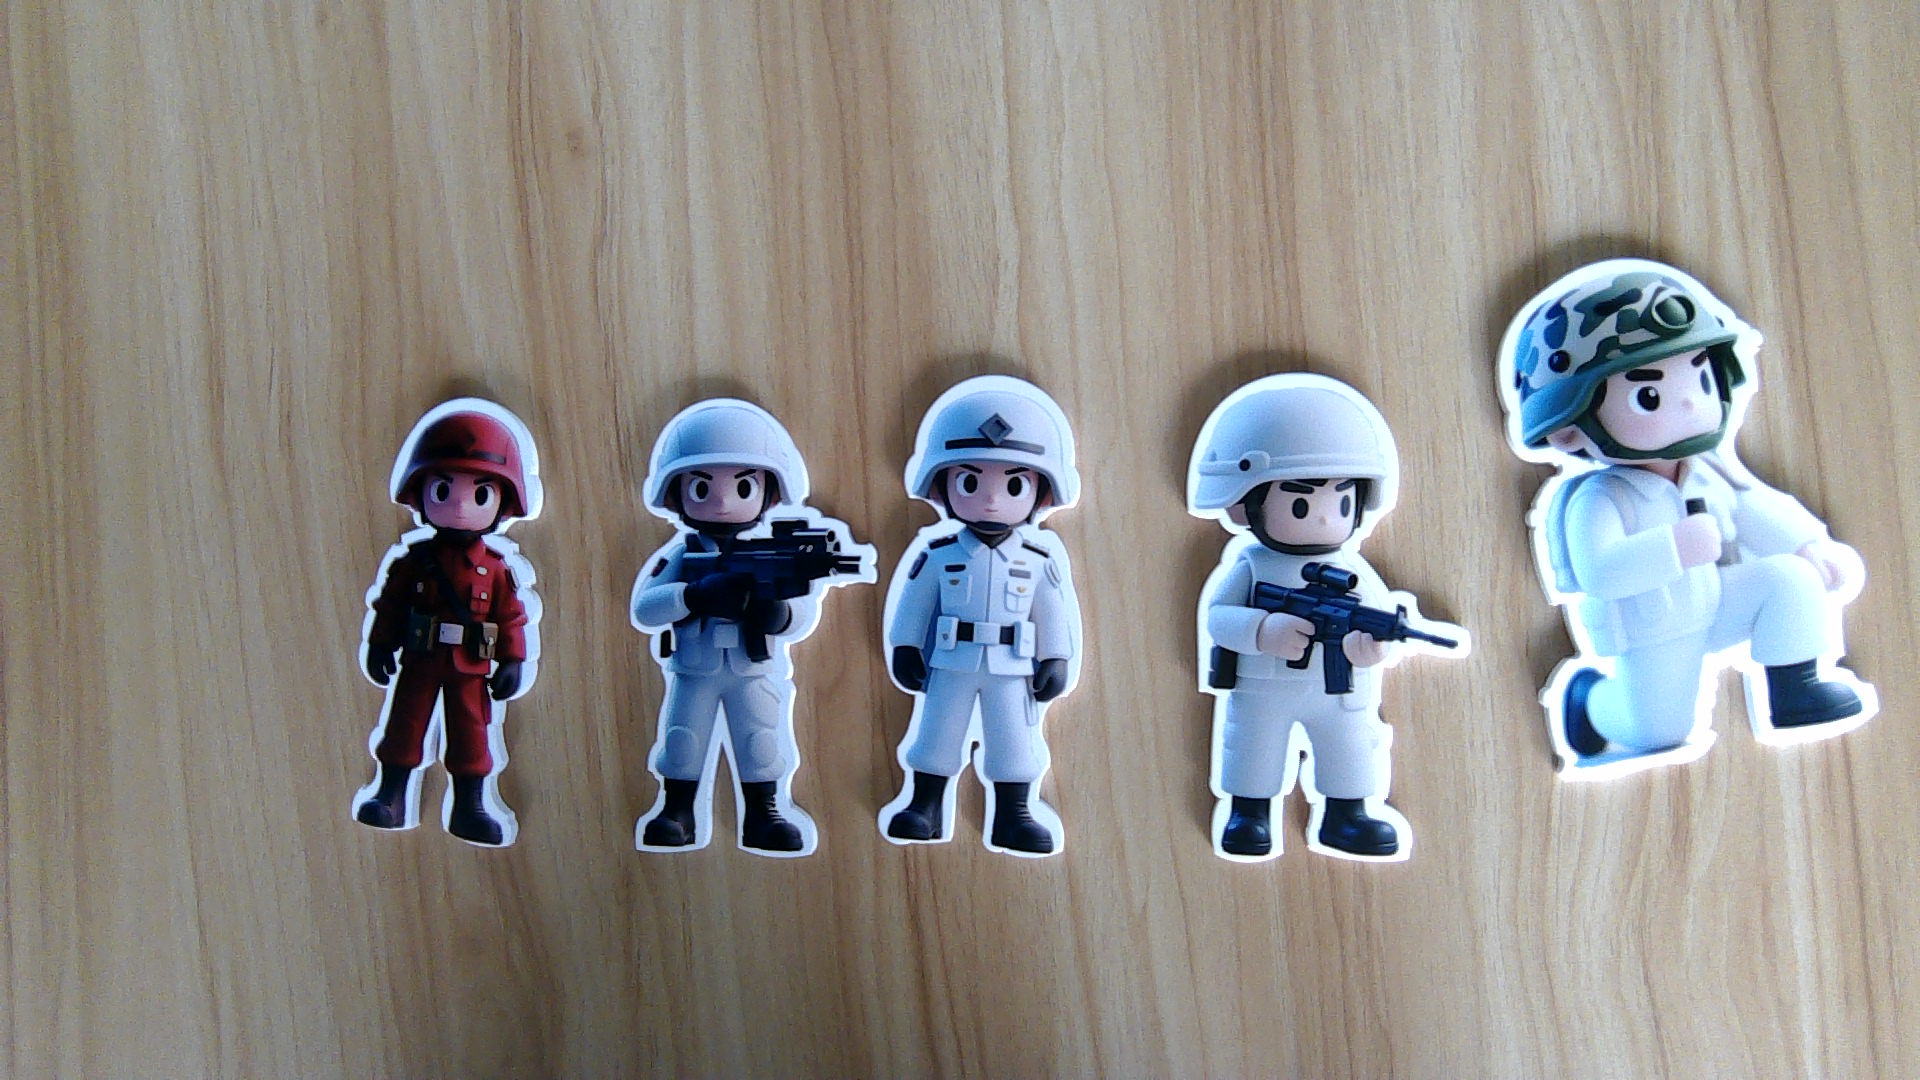人质: (1516, 468, 1892, 783), (1187, 546, 1460, 864), (617, 527, 855, 864), (876, 534, 1091, 855)
敌人1: (347, 527, 545, 847)
